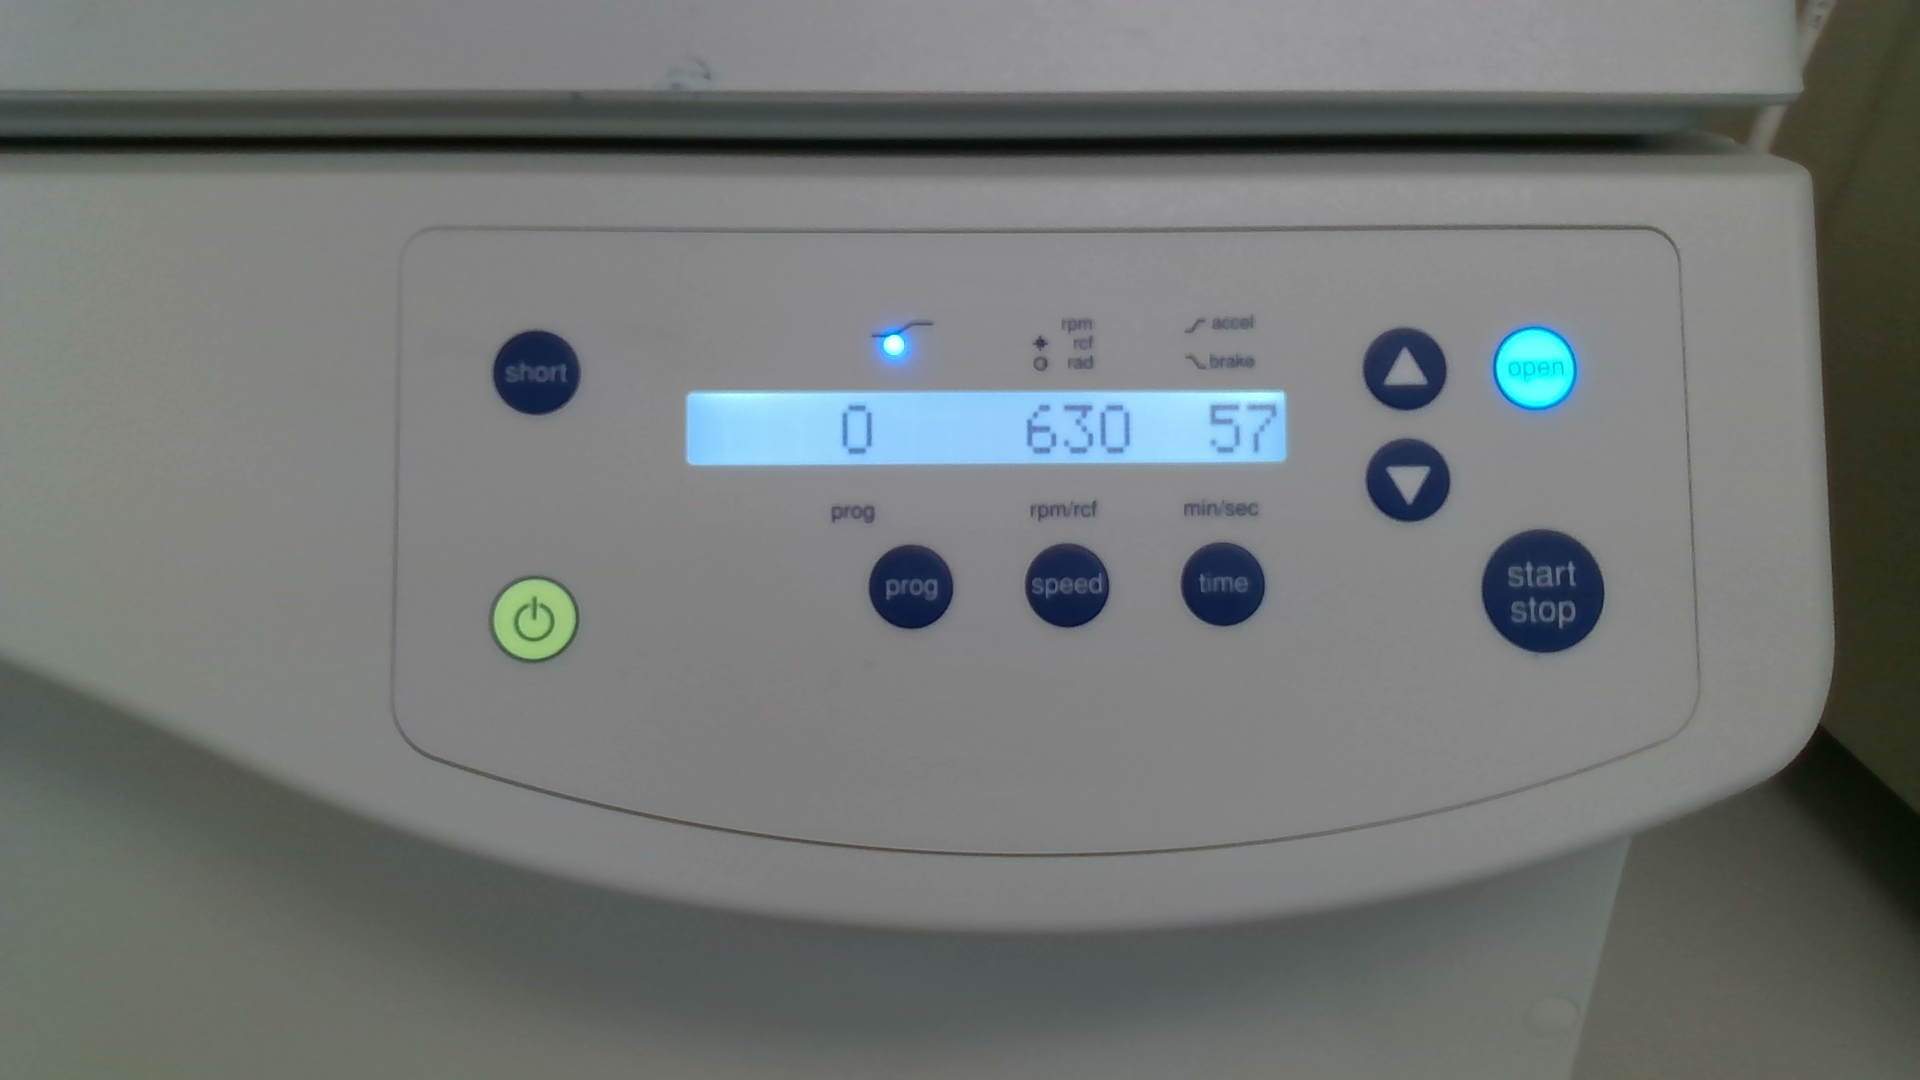0: (1101, 405, 1130, 454), (843, 406, 872, 454)
3: (1064, 405, 1093, 454)
5: (1211, 405, 1240, 454)
6: (1027, 405, 1056, 454)
7: (1247, 405, 1276, 454)
open_on: (1491, 324, 1577, 411)
power_on: (489, 575, 580, 665)
